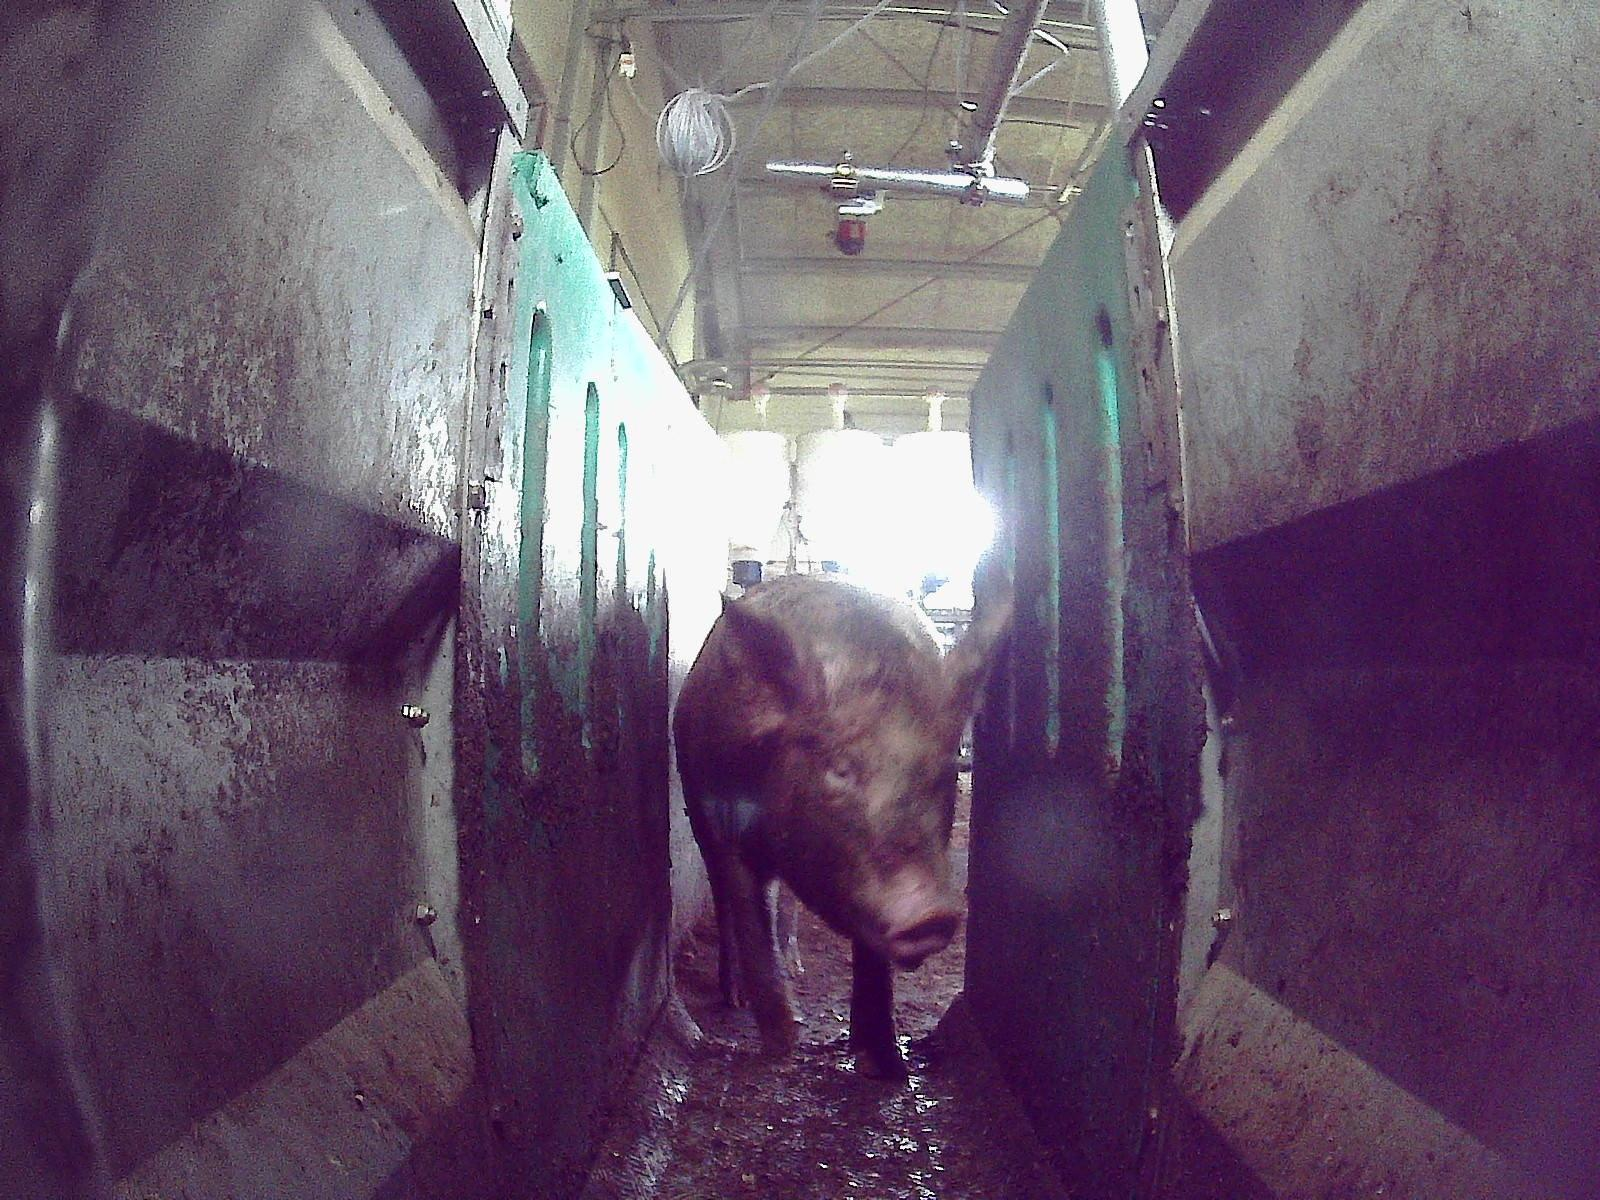Face: (760, 678, 955, 972)
